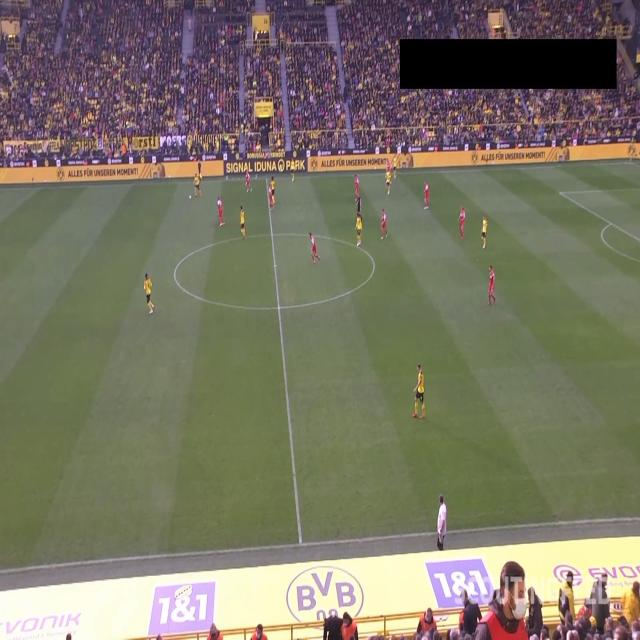ball: (189, 194, 192, 200)
